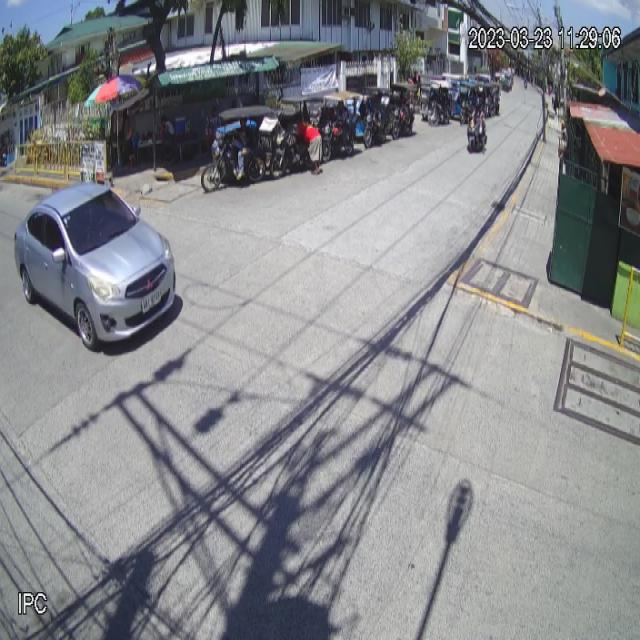Car: (12, 180, 178, 350)
